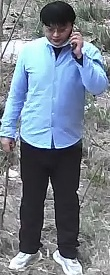phone: (54, 9, 109, 107)
